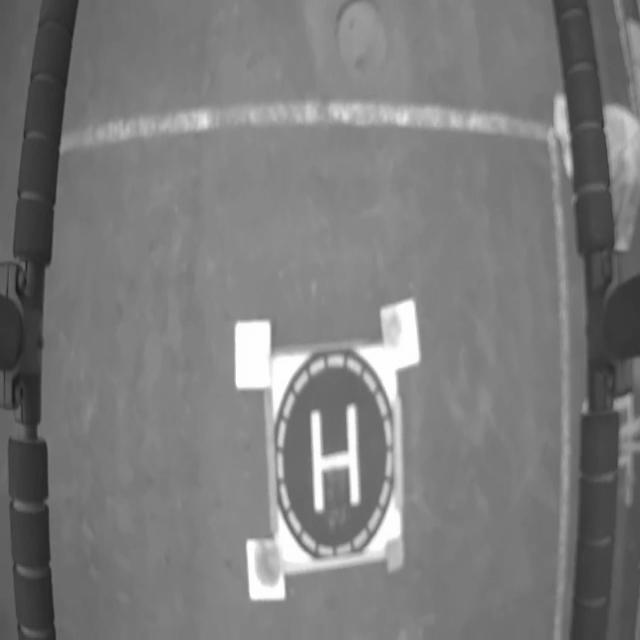Helipad: (310, 402, 361, 516)
